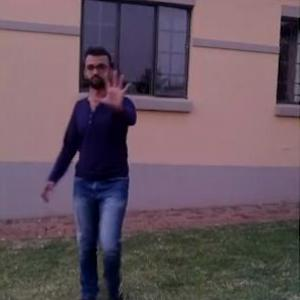follow_hand: (87, 64, 135, 116)
